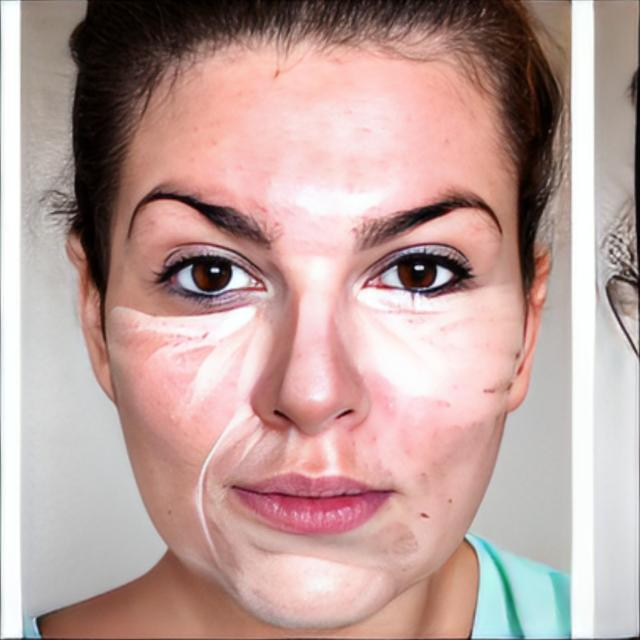content: (109, 18, 520, 627)
